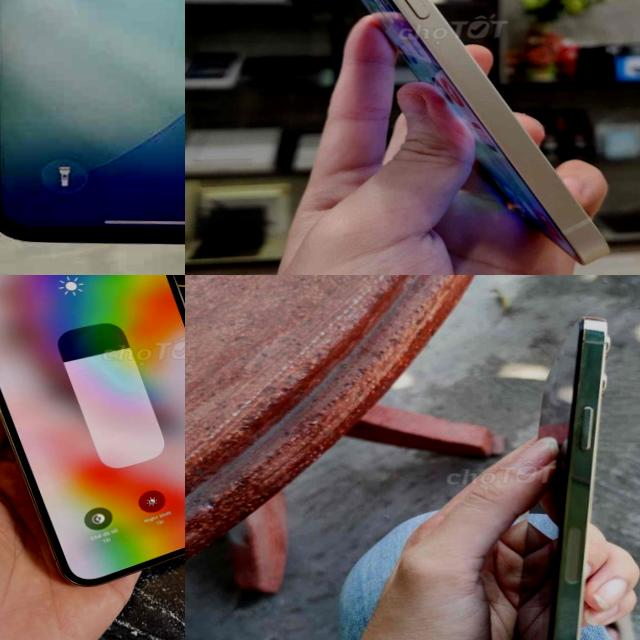gen_11: (0, 0, 185, 269)
gen_12_13: (269, 0, 613, 273), (0, 275, 185, 586), (504, 316, 619, 640)
